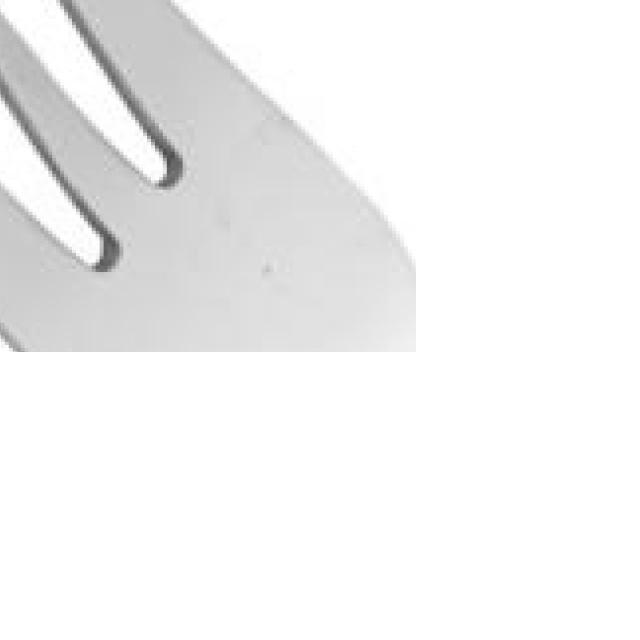forks: (0, 0, 416, 352)
